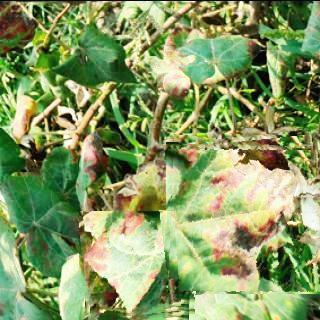blight: (168, 133, 320, 293), (79, 210, 195, 320)
